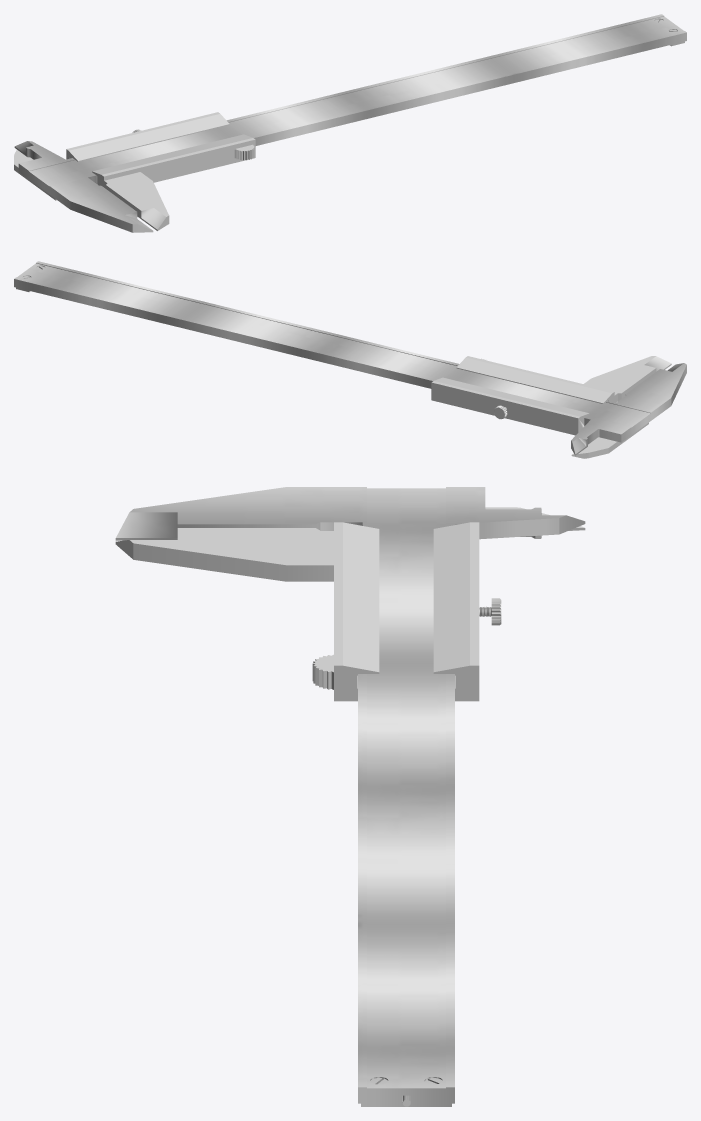
Rendered from Vernier Caliper.fbx.
The picture shows the model from 3 angles, top to bottom: view 1: azimuth 30°, elevation 25°; view 2: azimuth 150°, elevation 25°; view 3: azimuth 270°, elevation 25°; orthographic projection. The views are drawn at different scales.
Visible parts, largest first — view 1: Model, Schieber1; view 2: Model, Schieber1; view 3: Model, Schieber1.
Boxes of the visible parts, <box> form: Model: <box>14,14,686,232</box>; Schieber1: <box>14,112,255,230</box>; Model: <box>14,261,686,455</box>; Schieber1: <box>431,356,671,458</box>; Model: <box>115,487,585,1106</box>; Schieber1: <box>115,507,585,1106</box>.
Size of the model in its own units: 236 by 6.5 by 77.5.
